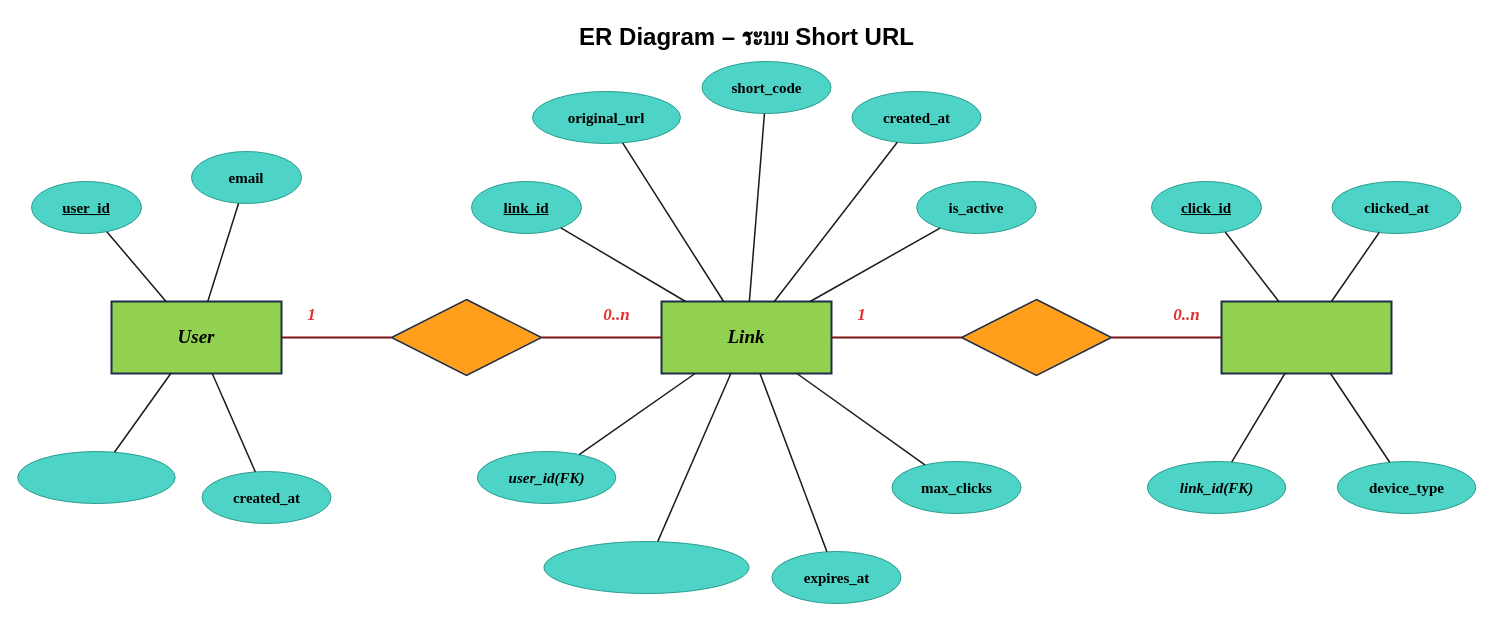
This 1494x621 diagram has some shape labels left out. Here are the shapes that lost their labels. From the top down, the centre of each, then its label:
(x=466, y=337): Creates
(x=1036, y=337): Has
(x=1306, y=337): Click
(x=96, y=477): password_hash
(x=646, y=567): link_password_hash
